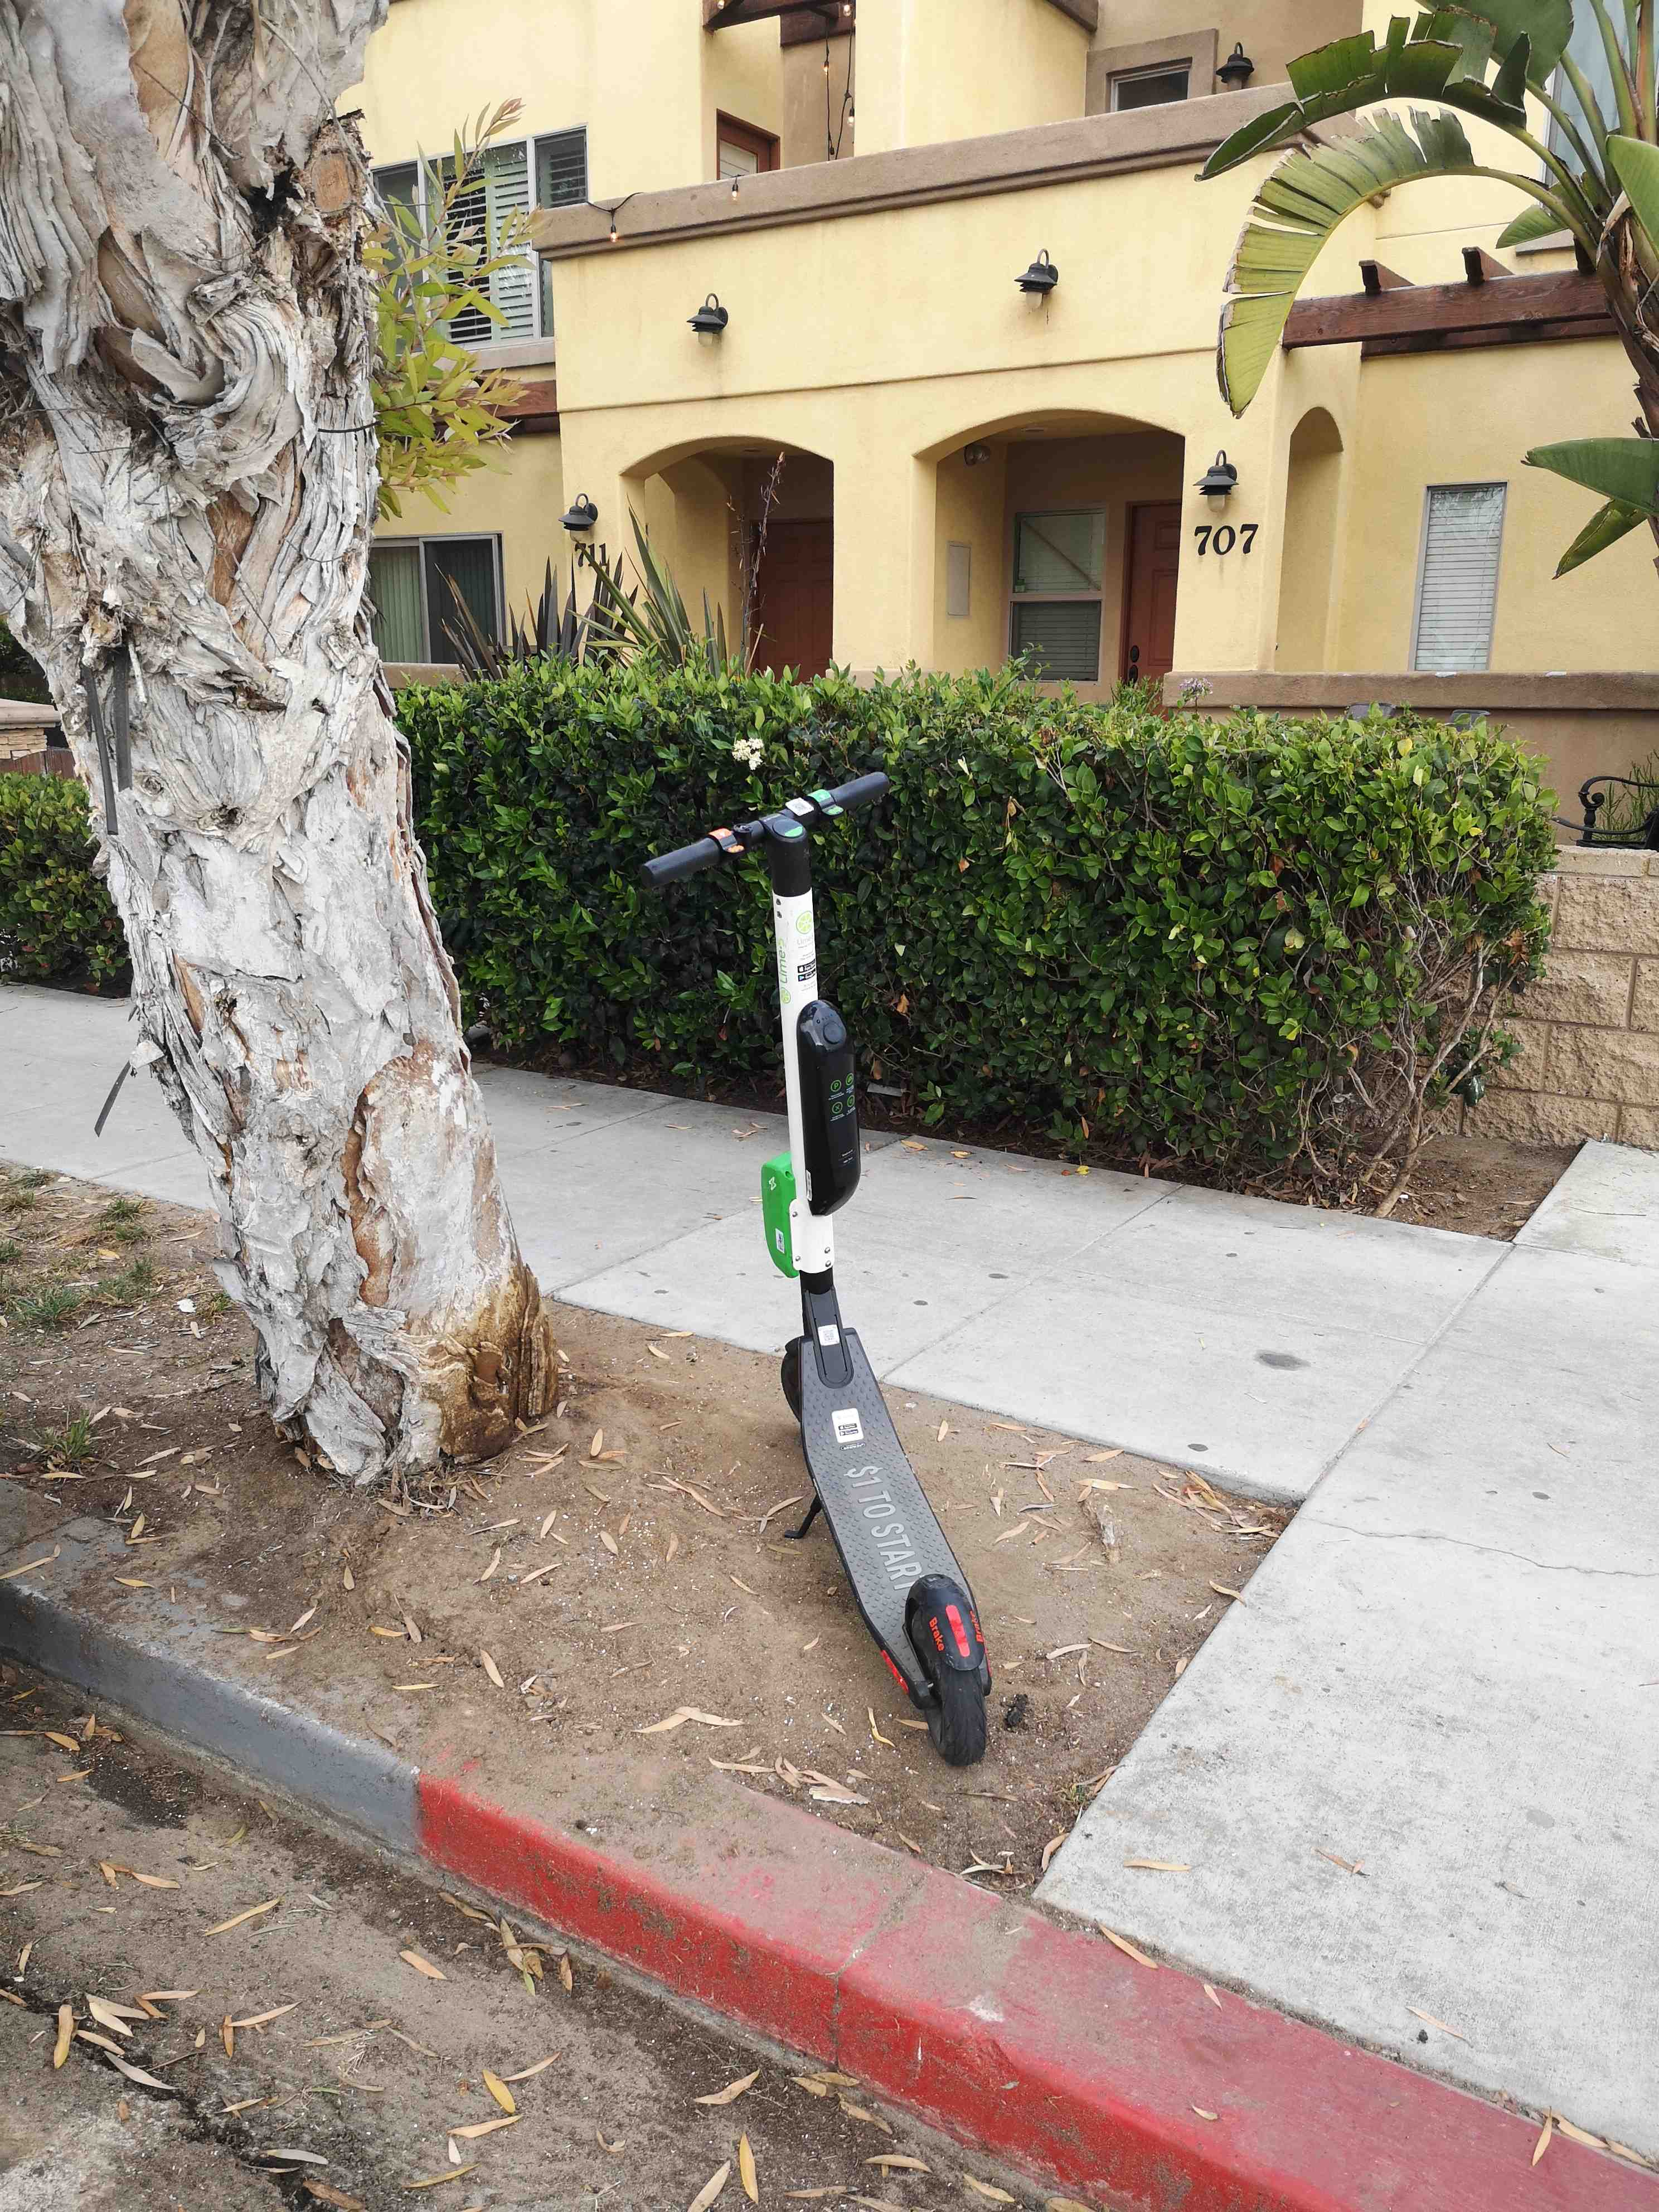scooter: (610, 735, 1021, 1804)
